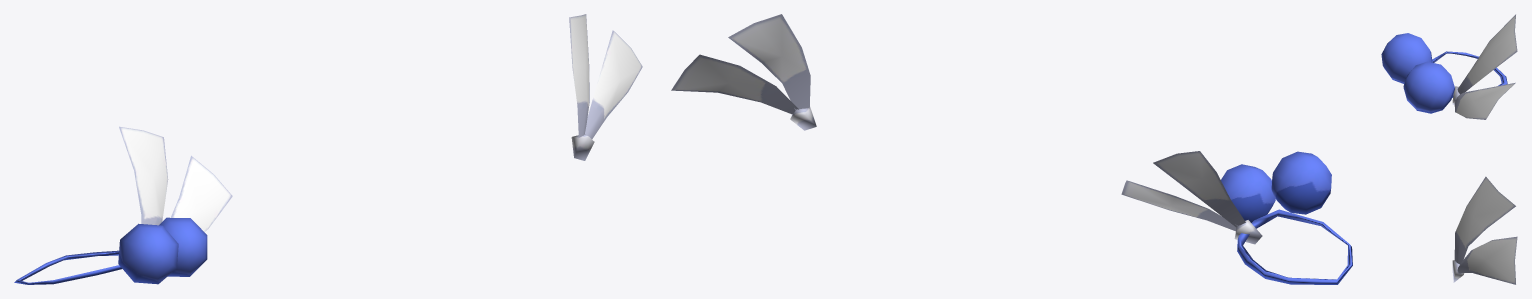
File: HishiAkebonoHairPinGround.fbx
3 renders of one model, left to right at view 1: azimuth 30°, elevation 25°; view 2: azimuth 150°, elevation 25°; view 3: azimuth 270°, elevation 25°, orthographic. The views are drawn at different scales.
Parts seen in each view (by area): view 1: HairPinRace; view 2: HairPinRace; view 3: HairPinRace.
Part boxes in pixels (left/top/right/bottom): HairPinRace: left=14, top=14, right=642, bottom=284; HairPinRace: left=671, top=14, right=1352, bottom=284; HairPinRace: left=1381, top=14, right=1517, bottom=284.
Size of the model in its own units: 0.186 by 0.0367 by 0.0406.
